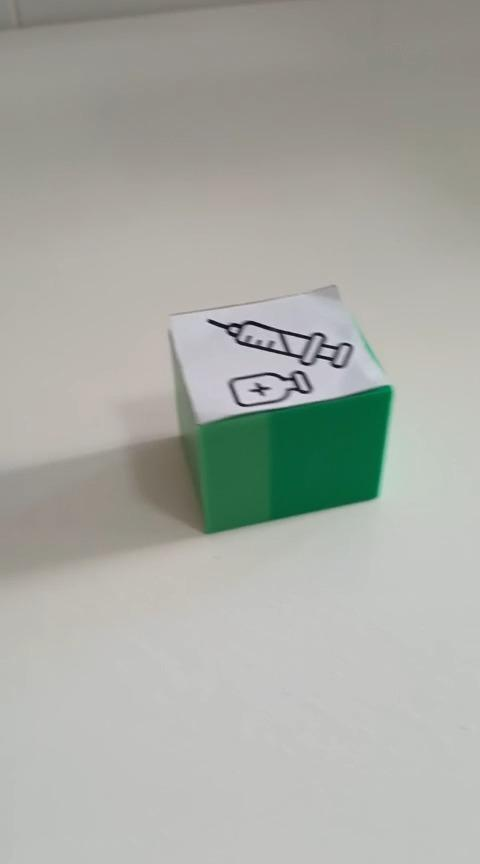antiseptic cream: (165, 282, 394, 534)
